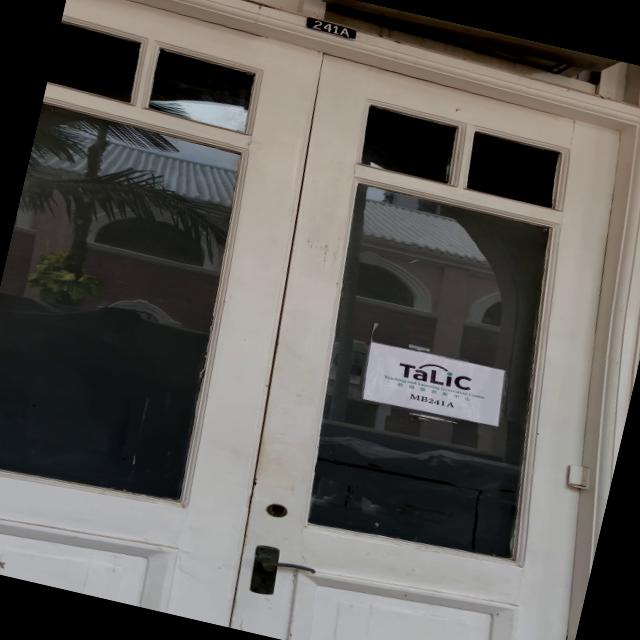room241a: (302, 14, 356, 42)
